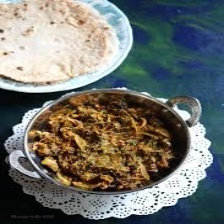sabzi: (19, 89, 198, 194)
